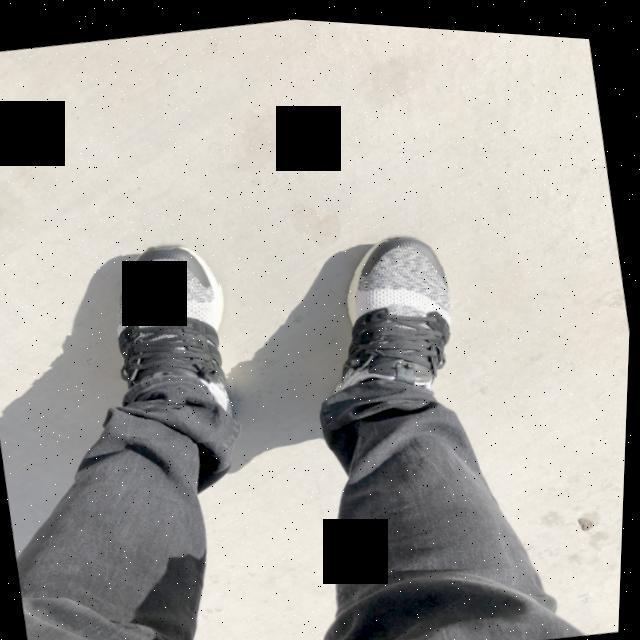shoe: (99, 226, 250, 453), (314, 215, 472, 406)
